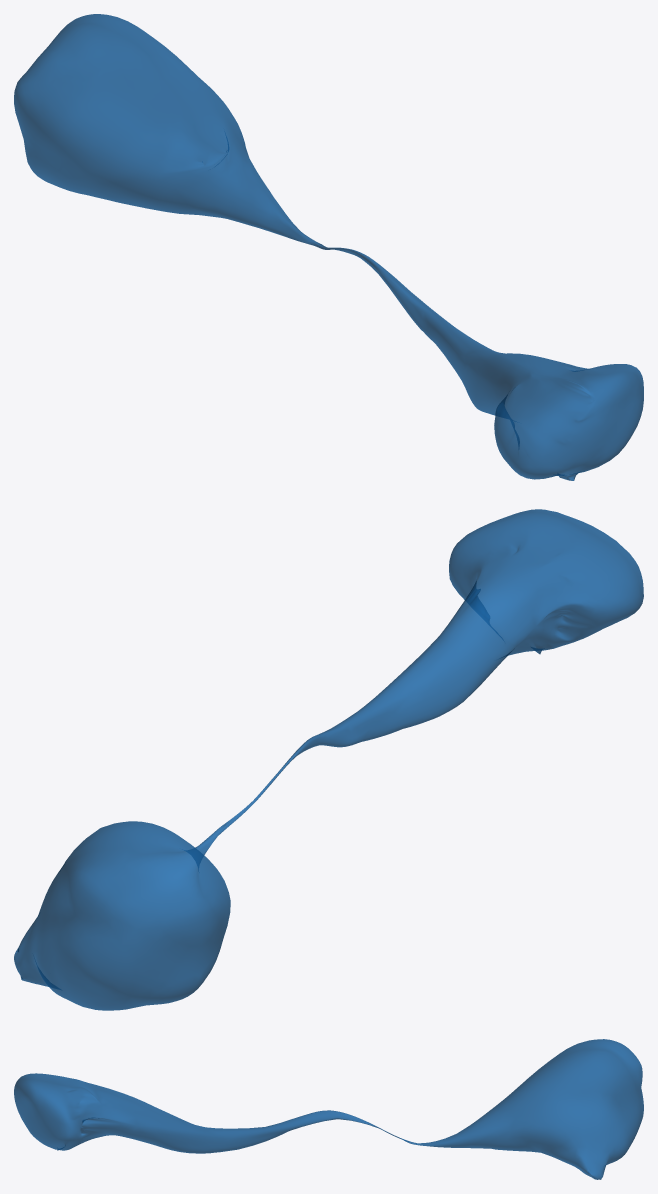
Rendered from spine-4-hr.obj.
3 views of the same model, one above another, from view 1: azimuth 30°, elevation 25°; view 2: azimuth 150°, elevation 25°; view 3: azimuth 270°, elevation 25° (orthographic). The views are drawn at different scales.
Visible parts, largest first — view 1: spine-4-hr_Cube.194; view 2: spine-4-hr_Cube.194; view 3: spine-4-hr_Cube.194.
Boxes of the visible parts, box(x1,y1,x2,y2) form: spine-4-hr_Cube.194: box(14, 14, 643, 480); spine-4-hr_Cube.194: box(14, 509, 643, 1010); spine-4-hr_Cube.194: box(14, 1039, 643, 1179).
Size of the model in its own units: 0.5588 by 0.4519 by 2.42.
